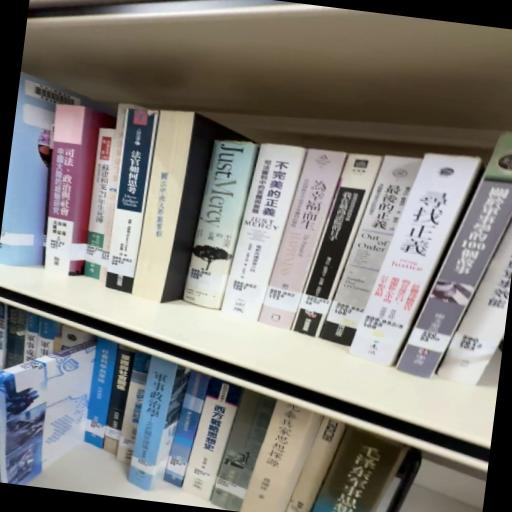backward: (132, 110, 248, 303), (378, 203, 394, 213)
book: (31, 106, 112, 284), (184, 137, 262, 315), (104, 108, 158, 296)
